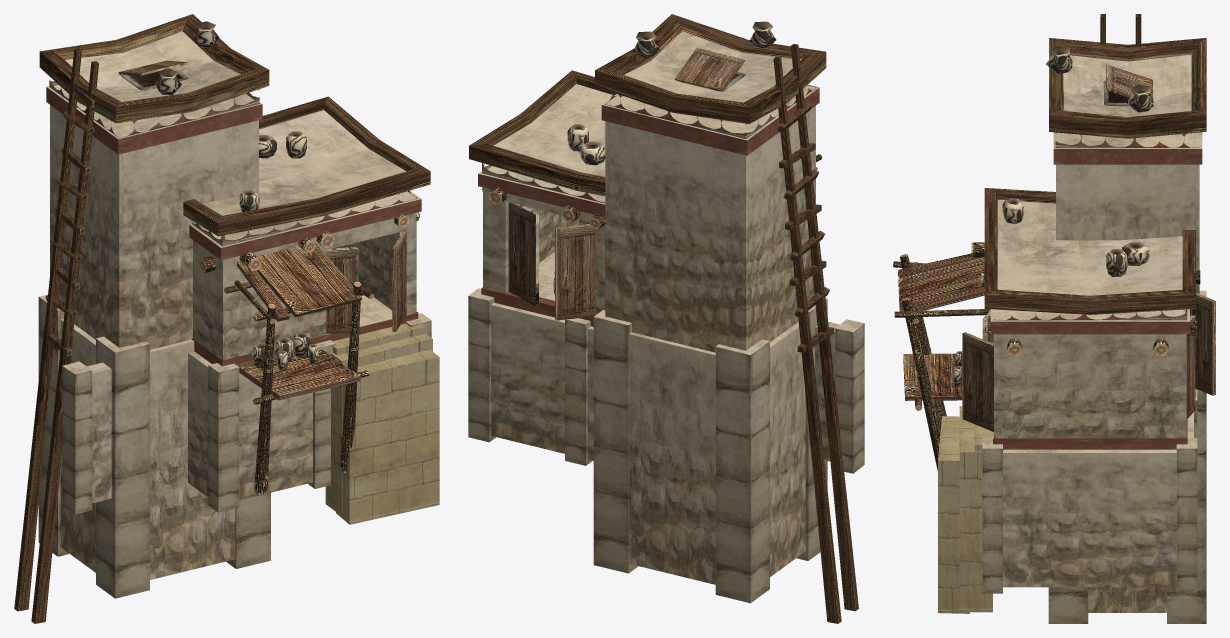
The model's file is mino_farmstead.dae.
The picture shows the model from 3 angles, left to right: view 1: azimuth 30°, elevation 25°; view 2: azimuth 150°, elevation 25°; view 3: azimuth 270°, elevation 25°; orthographic projection. The views are drawn at different scales.
Visible parts, largest first — view 1: farmstead; view 2: farmstead; view 3: farmstead.
Boxes of the visible parts, x1=… form: farmstead: x1=14, y1=14, x2=439, y2=623; farmstead: x1=468, y1=14, x2=864, y2=623; farmstead: x1=893, y1=14, x2=1215, y2=623.
Bounding box in the file's own units: 15.78 × 12.53 × 24.18.
